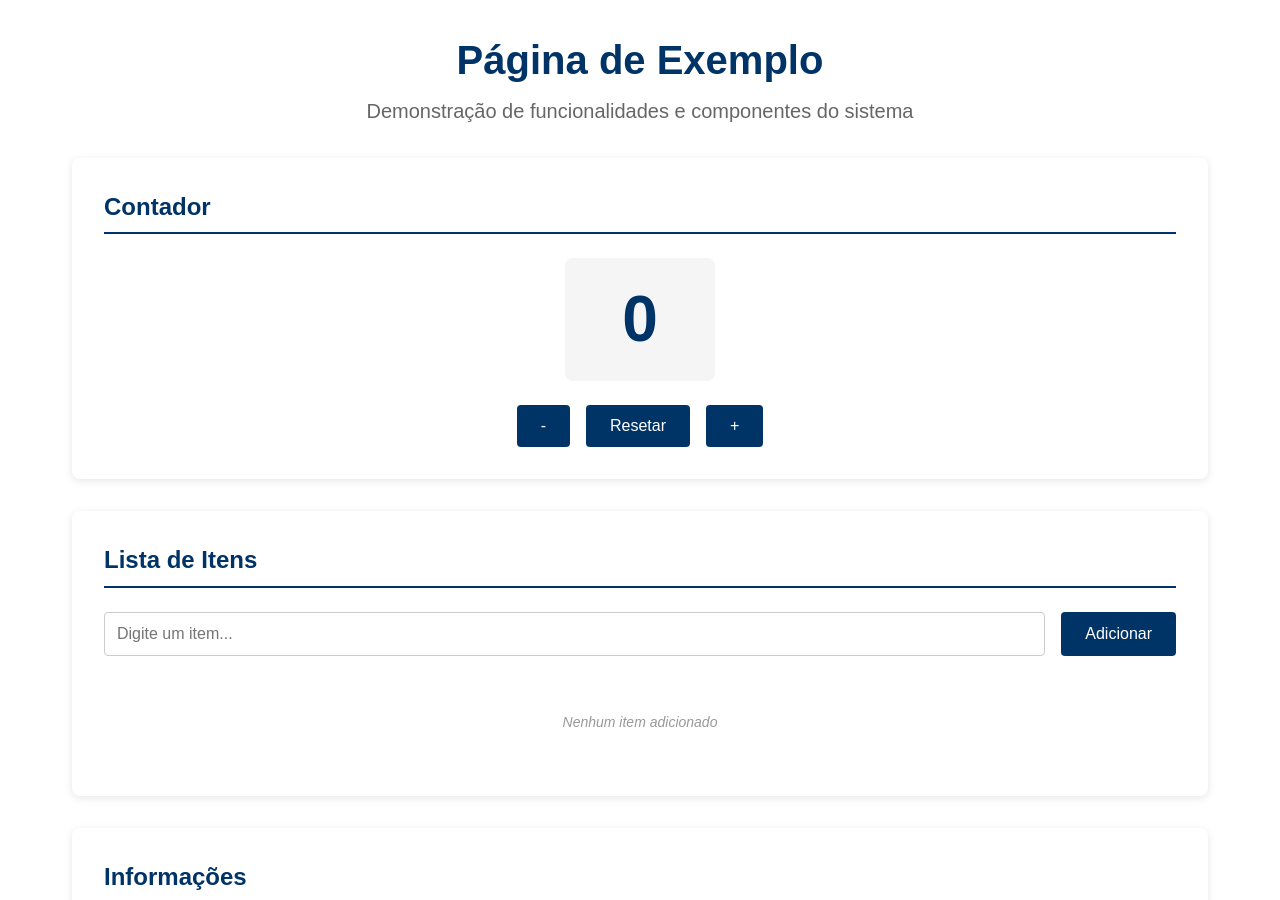
it: Example › Counter functionality › resets counter to 0 when reset button is clicked
Click the button with test id "example-btn-increment".
click(735, 426)  # box [706, 405, 763, 447]
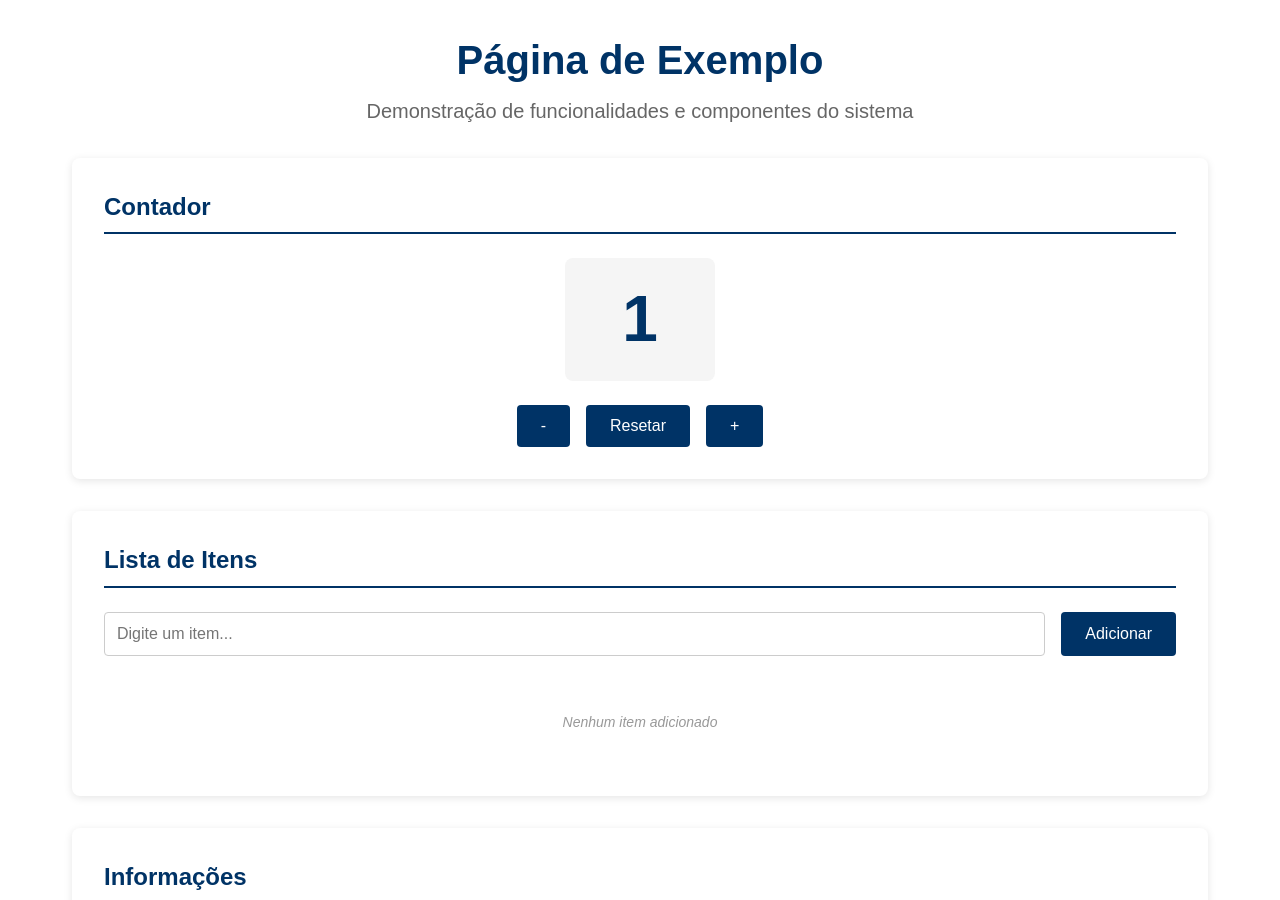
Click the button with test id "example-btn-increment".
click(735, 426)  # box [706, 405, 763, 447]
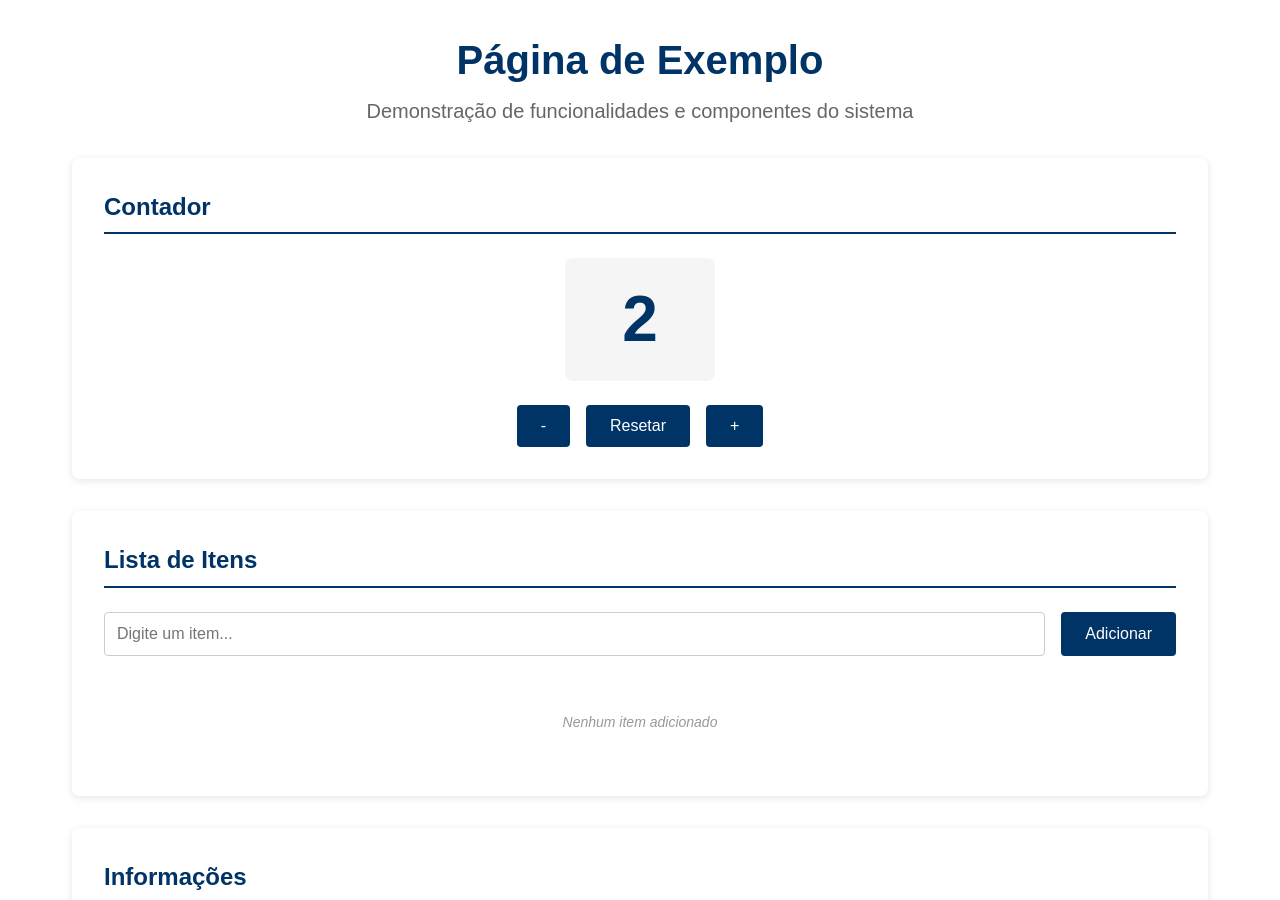
Click the button with test id "example-btn-increment".
click(735, 426)  # box [706, 405, 763, 447]
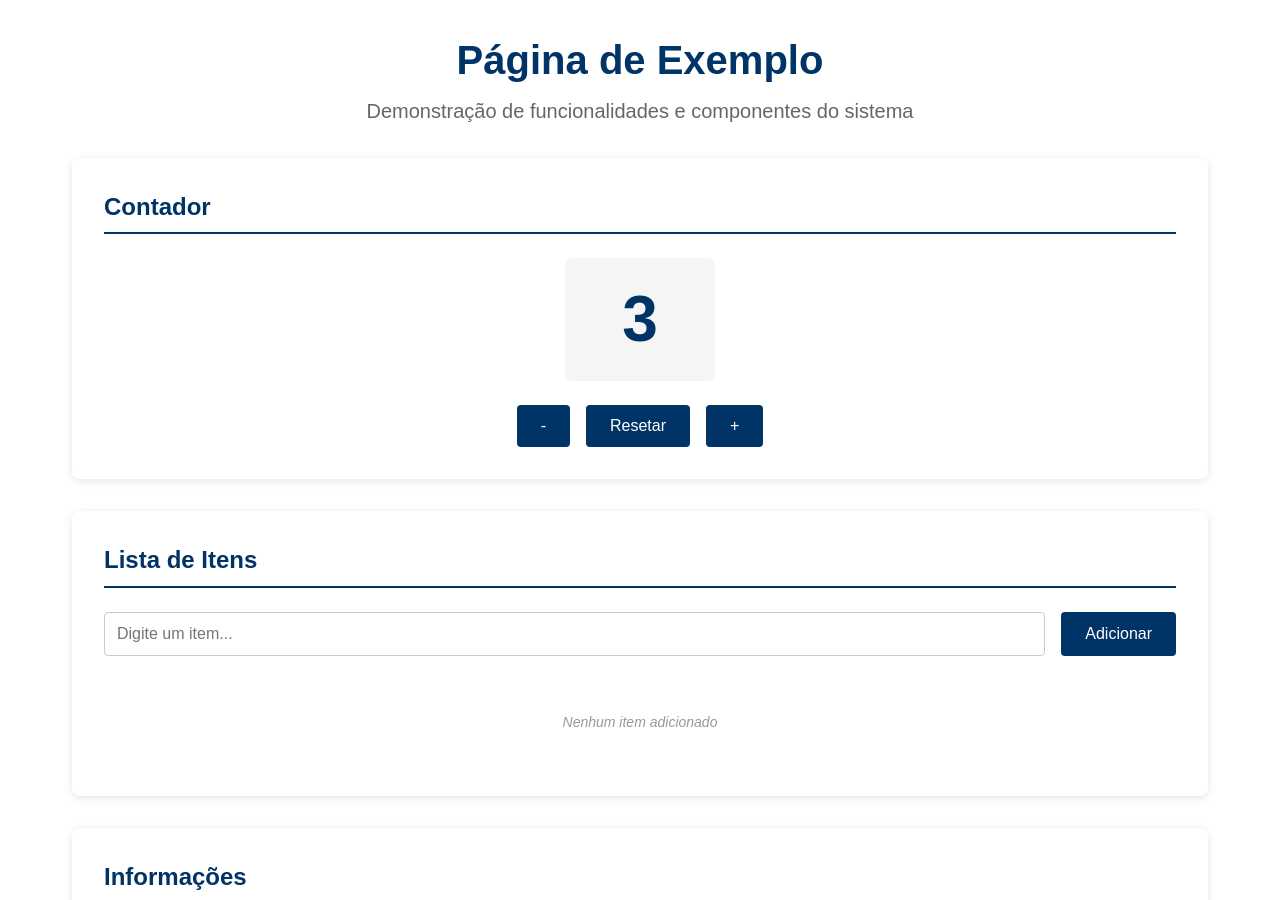
Check: the text with test id "example-counter-display" reads "3", box [622, 283, 658, 355]
Click the button with test id "example-btn-reset".
click(638, 426)  # box [586, 405, 690, 447]
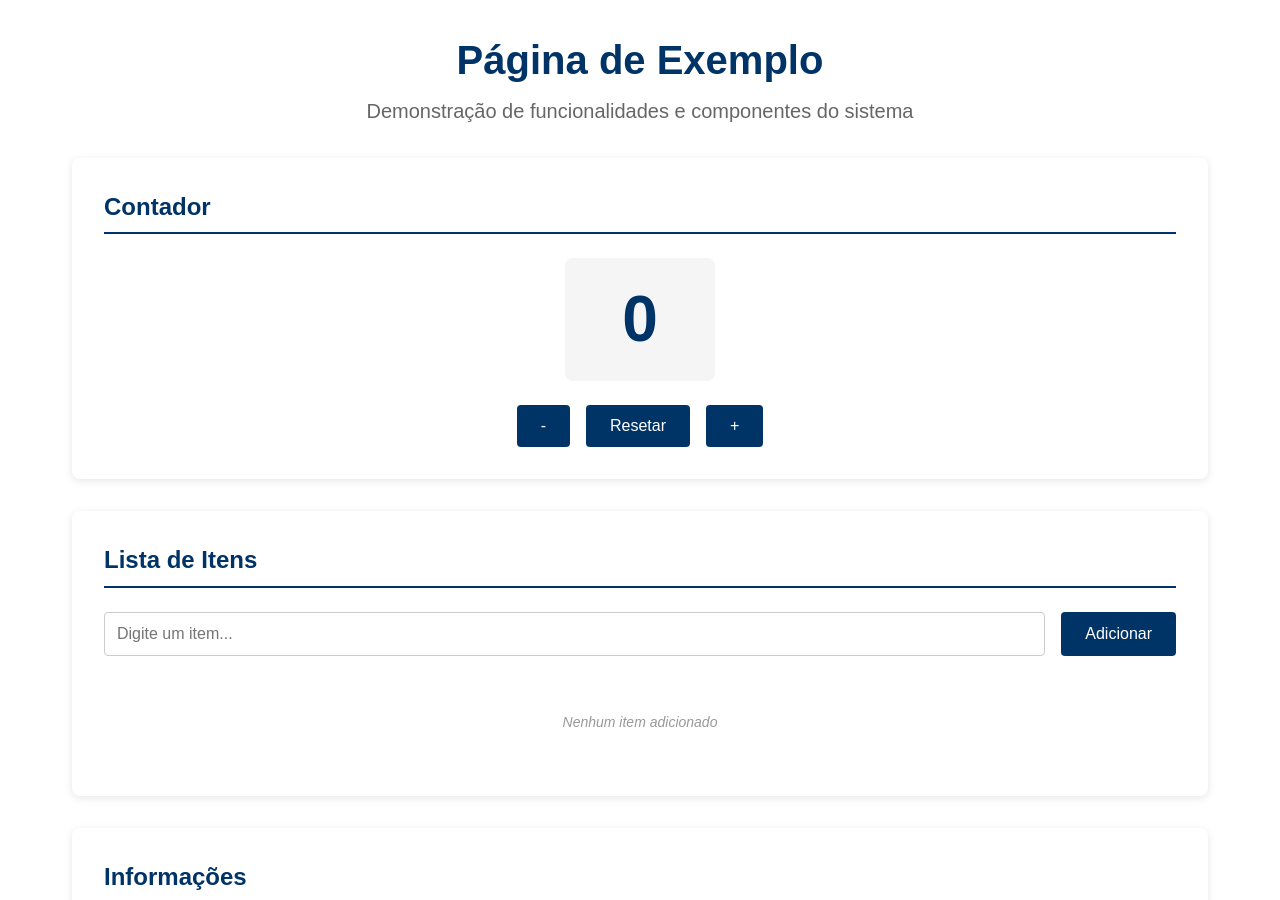
Check: the text with test id "example-counter-display" reads "0", box [622, 283, 658, 355]
